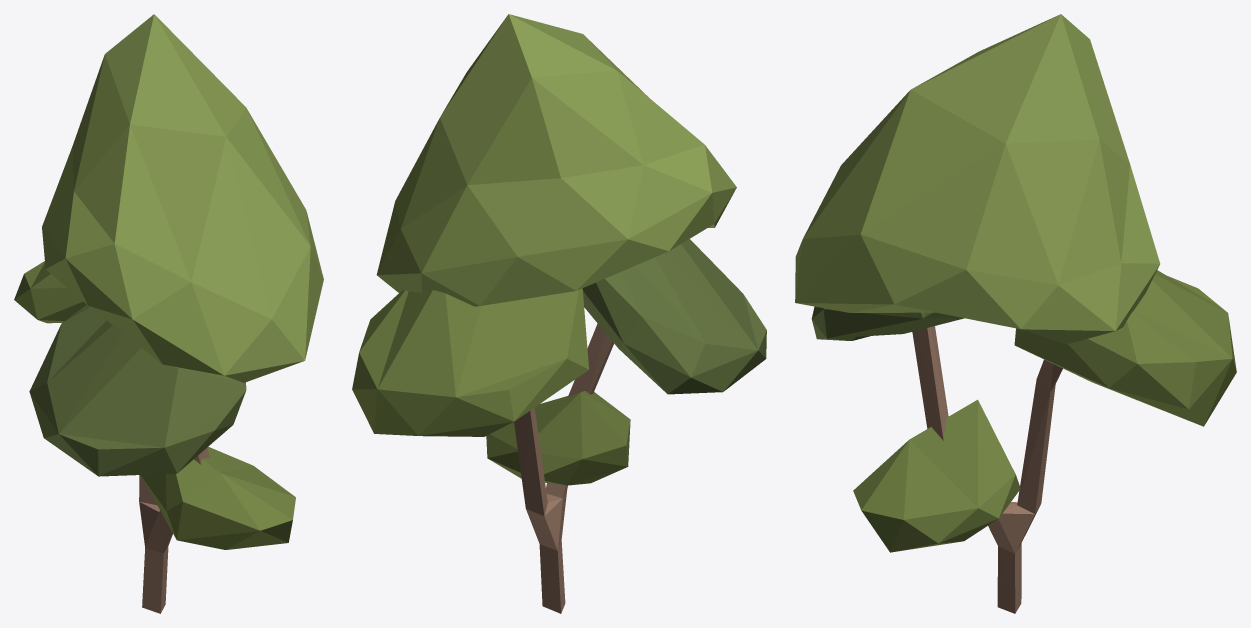
File: tree_0402.dae
3 views of the same model, side by side, from view 1: azimuth 30°, elevation 25°; view 2: azimuth 150°, elevation 25°; view 3: azimuth 270°, elevation 25° (orthographic). The views are drawn at different scales.
Visible parts, largest first — view 1: tree_0402; view 2: tree_0402; view 3: tree_0402.
Boxes of the visible parts, <box> form: tree_0402: <box>14,14,323,613</box>; tree_0402: <box>352,14,766,613</box>; tree_0402: <box>795,14,1236,613</box>.
Bounding box in the file's own units: 1.85 × 2.35 × 3.55.
